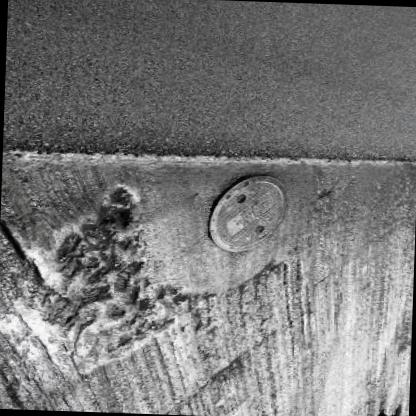manholes: (175, 167, 318, 266)
